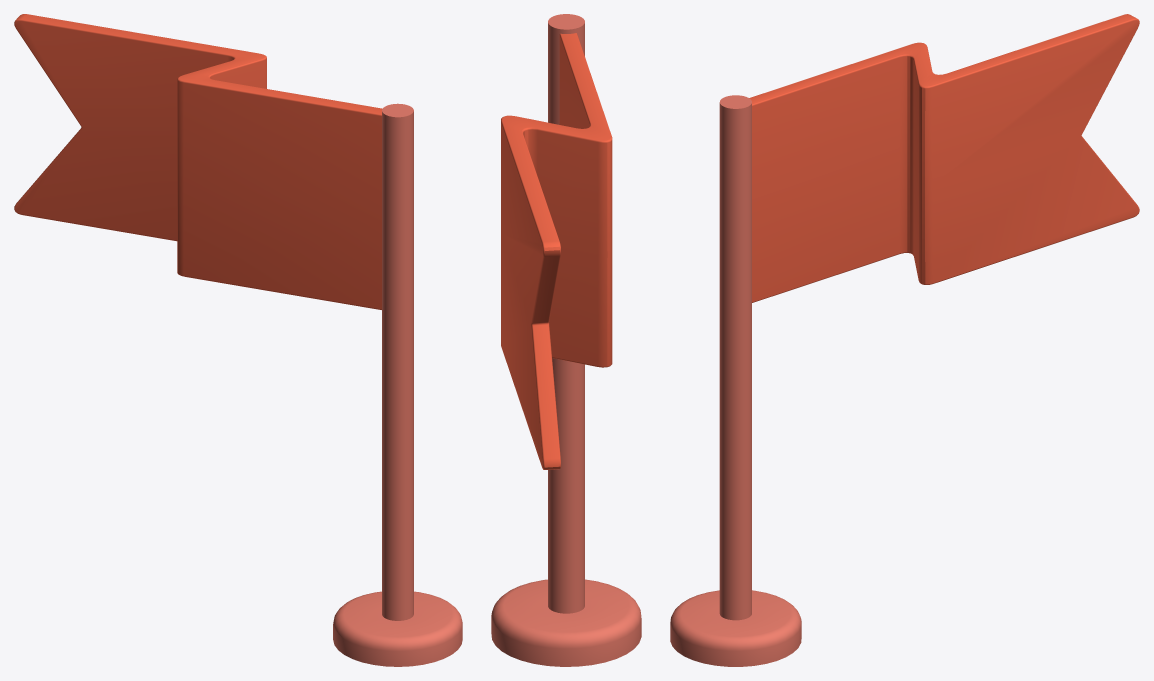
3 renders of one model, left to right at view 1: azimuth 30°, elevation 25°; view 2: azimuth 150°, elevation 25°; view 3: azimuth 270°, elevation 25°, orthographic. The views are drawn at different scales.
Parts seen in each view (by area): view 1: Plane011, Circle009, Circle010; view 2: Plane011, Circle009, Circle010; view 3: Plane011, Circle009, Circle010.
Boxes of the visible parts, x1,y1,x2,y2 form: Plane011: (14,14,382,309); Circle009: (382,103,413,620); Circle010: (333,591,462,666); Plane011: (501,33,612,469); Circle009: (548,14,584,613); Circle010: (491,579,641,666); Plane011: (749,14,1139,302); Circle009: (719,95,751,620); Circle010: (670,590,801,666).
Bounding box in the file's own units: 1.68 × 3.46 × 2.74.
